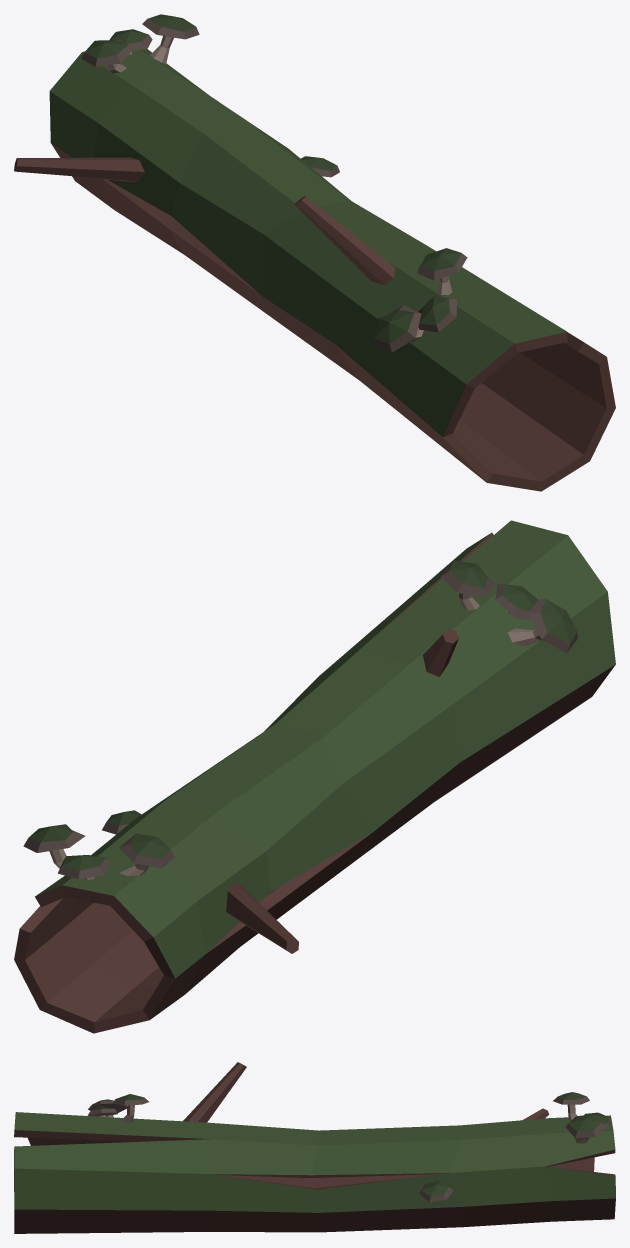
Rendered from nature_wood_log_moss.glb.
3 renders of one model, top to bottom at view 1: azimuth 30°, elevation 25°; view 2: azimuth 150°, elevation 25°; view 3: azimuth 270°, elevation 25°, orthographic. The views are drawn at different scales.
Parts seen in each view (by area): view 1: WoodLog_Moss; view 2: WoodLog_Moss; view 3: WoodLog_Moss.
Part boxes in pixels (left/top/right/bottom): WoodLog_Moss: left=14, top=14, right=615, bottom=491; WoodLog_Moss: left=14, top=520, right=615, bottom=1033; WoodLog_Moss: left=14, top=1062, right=615, bottom=1233.
Size of the model in its own units: 0.8965 by 0.6882 by 2.67.
